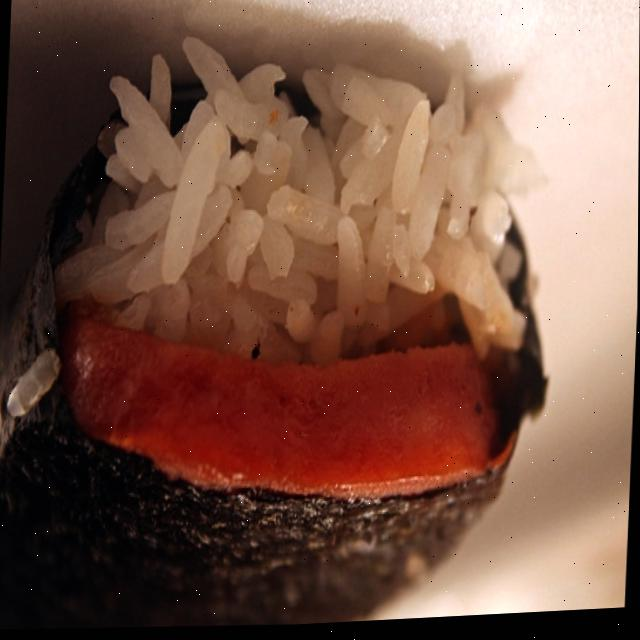寿司卷物: (0, 11, 601, 640)
